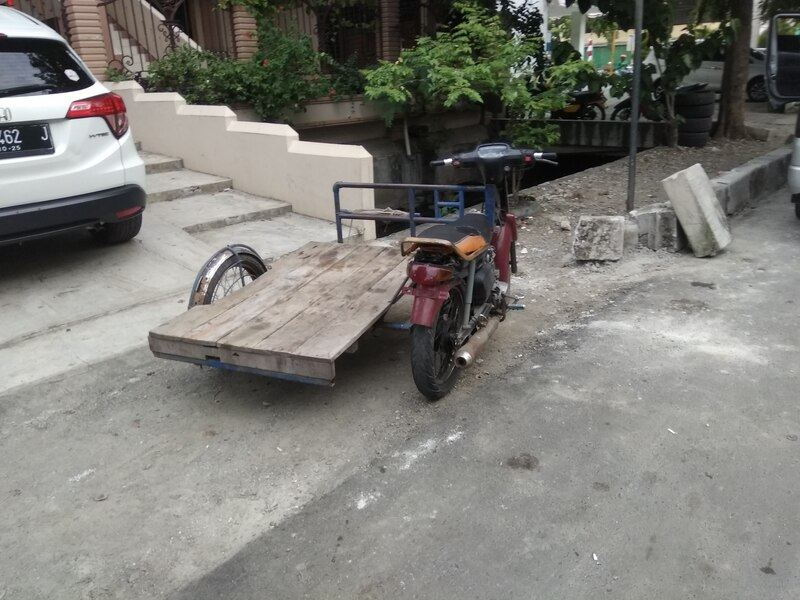becak barang: (136, 128, 561, 414)
car: (1, 3, 148, 252)
